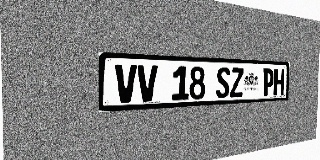1: (172, 66, 189, 100)
8: (189, 66, 206, 100)
H: (273, 69, 285, 95)
P: (262, 68, 274, 96)
S: (216, 67, 230, 98)
V: (115, 64, 137, 103), (137, 65, 157, 102)
Z: (230, 67, 244, 98)
